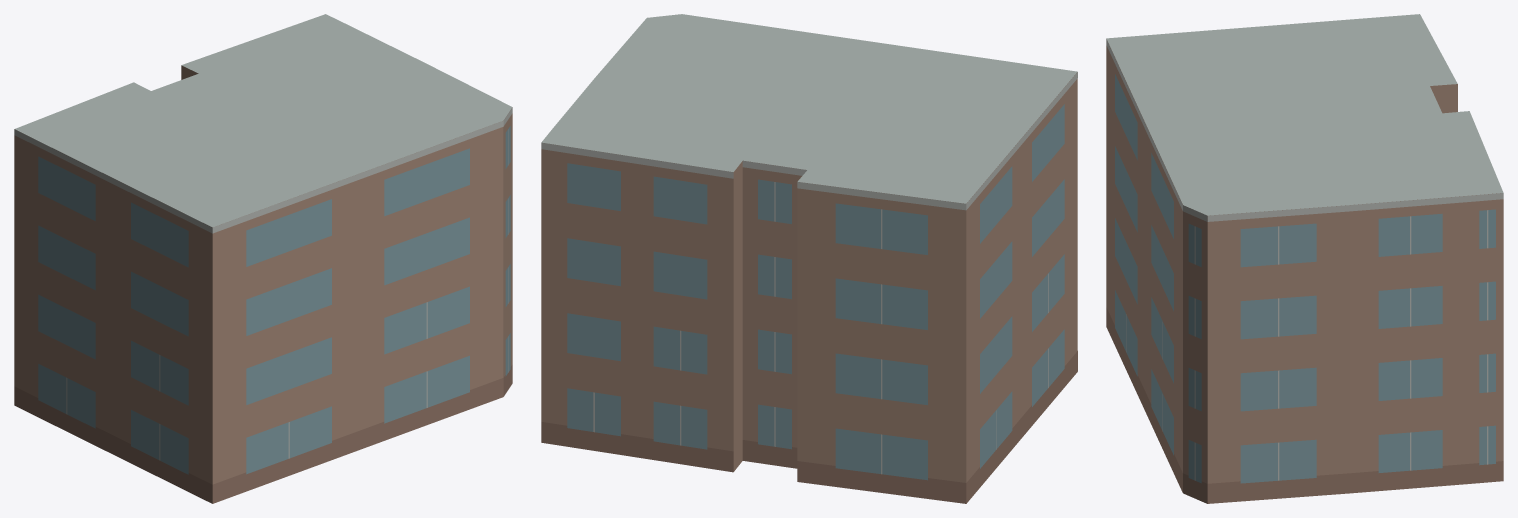
Rendered from survey-upis-33040055.glb.
3 views of the same model, side by side, from view 1: azimuth 30°, elevation 25°; view 2: azimuth 150°, elevation 25°; view 3: azimuth 270°, elevation 25° (orthographic). The views are drawn at different scales.
Visible parts, largest first — view 1: survey-upis-33040055.tmp; view 2: survey-upis-33040055.tmp; view 3: survey-upis-33040055.tmp.
Part boxes in pixels (x1,y1,x2,y2): survey-upis-33040055.tmp: [14, 14, 512, 503]; survey-upis-33040055.tmp: [541, 14, 1077, 503]; survey-upis-33040055.tmp: [1106, 14, 1503, 503].
Bounding box in the file's own units: 16.64 × 11.09 × 13.86.
